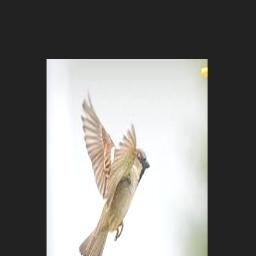Sparrow: (79, 90, 150, 256)
